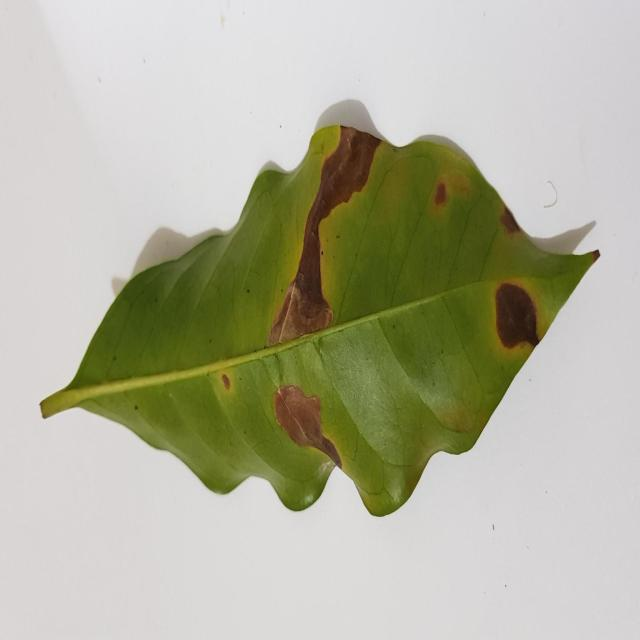Plaga-Minador: (40, 125, 599, 518)
